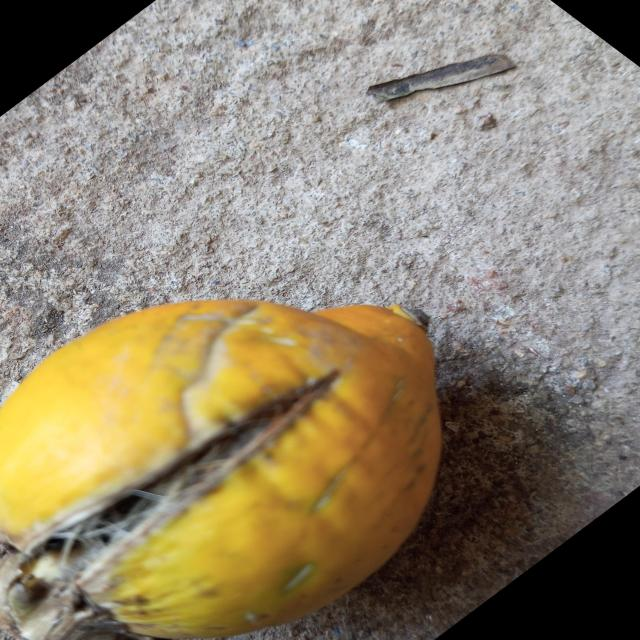damaged: (0, 298, 442, 640)
